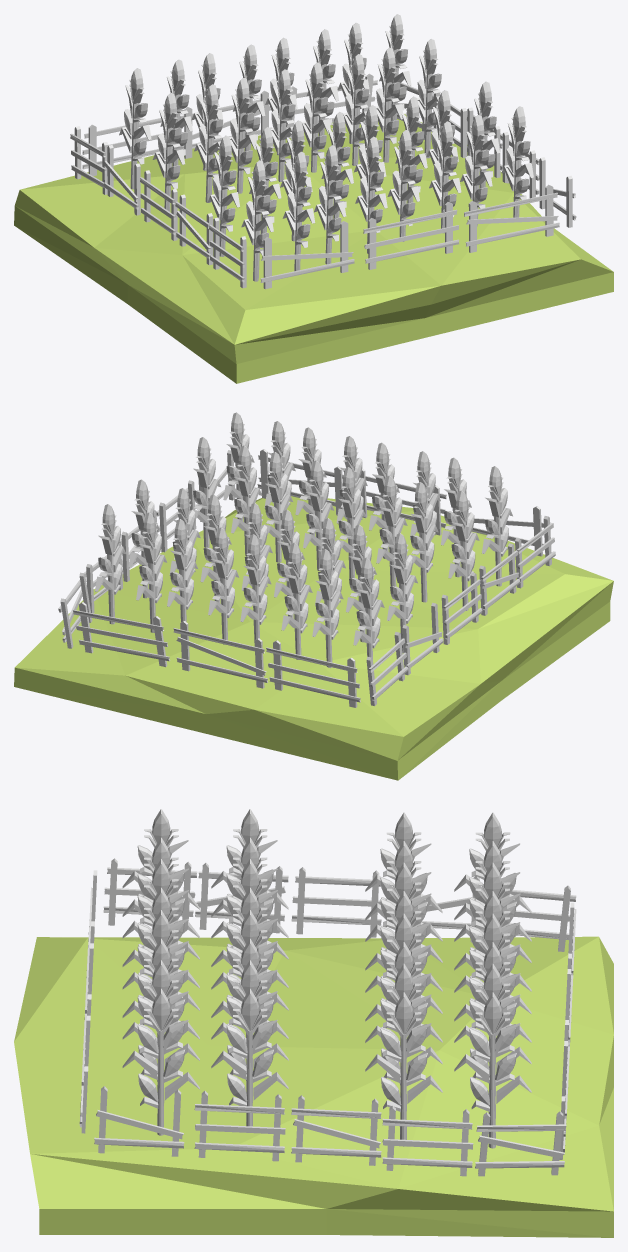
The model's file is building_vegefarm.fbx.
The picture shows the model from 3 angles, top to bottom: view 1: azimuth 30°, elevation 25°; view 2: azimuth 150°, elevation 25°; view 3: azimuth 270°, elevation 25°; orthographic projection. The views are drawn at different scales.
Parts seen in each view (by area): view 1: fence; view 2: fence; view 3: fence.
Part boxes in pixels (x1=…): fence: x1=14, y1=14, x2=613, y2=383; fence: x1=14, y1=412, x2=613, y2=780; fence: x1=14, y1=809, x2=613, y2=1237.
Bounding box in the file's own units: 51.6 × 21.88 × 52.21.
